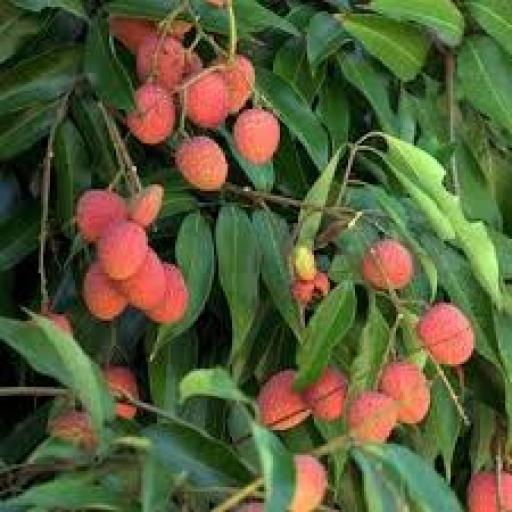lychee: (417, 303, 473, 366), (258, 369, 309, 430), (126, 82, 175, 145), (381, 362, 430, 425), (117, 251, 166, 309), (98, 221, 147, 279), (176, 137, 227, 191), (76, 189, 127, 241), (137, 35, 184, 91), (82, 262, 127, 320), (362, 239, 414, 288), (146, 264, 188, 323), (235, 110, 279, 166), (185, 71, 227, 129), (349, 392, 398, 441), (303, 367, 348, 420), (289, 456, 327, 511), (219, 55, 254, 113), (48, 410, 97, 450), (110, 16, 157, 54), (467, 472, 511, 511), (128, 185, 163, 227), (105, 367, 138, 398), (292, 246, 316, 282), (41, 310, 72, 336), (292, 280, 314, 307), (169, 21, 193, 40), (185, 53, 202, 77), (315, 271, 329, 295), (237, 501, 263, 511), (208, 0, 225, 6)
